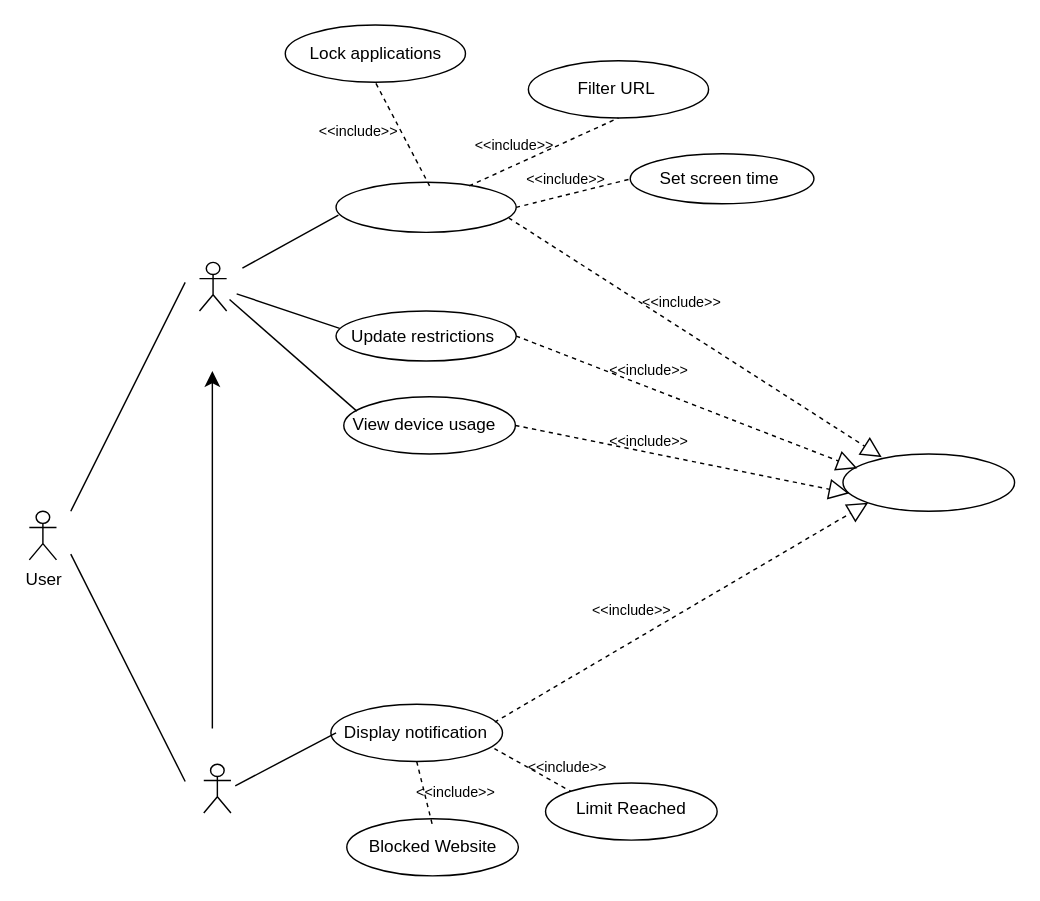
The diagram is 1040 pixels wide and 901 high, and some of its shapes have lost their labels. The shapes that lost their labels are listed below. From the top down, each one's box as (x1, y1, x2, y2) in pixels, then its label:
(335, 181, 516, 232): Set Restrictions
(198, 261, 227, 311): Parent
(842, 453, 1015, 511): Login account
(202, 763, 231, 813): Child
